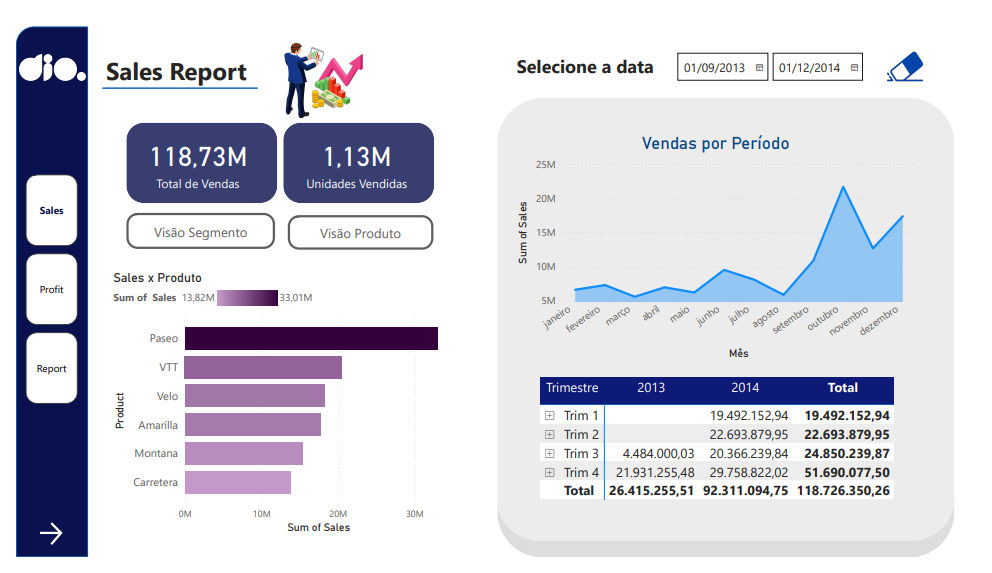

The page's visual inventory and layout, read from the dashboard file:
{"tool":"powerbi","page":{"name":"Sales","canvas":[1280,720],"ordinal":0},"visuals":[{"type":"group","id":"g1","title":"Layout","box":[0,13.6,519.6,706.1],"z":0},{"type":"shape","box":[0,13.6,96.4,706.2],"z":0,"group":"g1"},{"type":"slicer","fields":{"Values":["financials.Date"]},"box":[867.2,38.7,272.2,55],"z":0,"group":"g3"},{"type":"shape","box":[115.4,79,206.4,32.3],"z":0,"group":"g4"},{"type":"shape","box":[147.2,142.2,201.4,106.8],"z":0,"group":"g2"},{"type":"areaChart","title":"Vendas por Período","fields":{"Category":["financials.Date.Variation.Hierarquia de datas.Ano","financials.Date.Variation.Hierarquia de datas.Mês"],"Y":["Sum(financials. Sales)"]},"box":[661.6,156.1,539.7,306.2],"z":0,"group":"g6"},{"type":"image","title":"logo_dio","box":[0,35.9,98.2,63.2],"z":1000,"group":"g1"},{"type":"textbox","box":[115,44.5,215.4,53.4],"z":1000,"group":"g4"},{"type":"textbox","box":[661.6,44.7,199.6,45.6],"z":1000,"group":"g3"},{"type":"shape","box":[355.9,142.2,201.4,106.8],"z":1000,"group":"g2"},{"type":"clusteredBarChart","title":"Sales x Produto","fields":{"Y":["Sum(financials. Sales)"],"Category":["financials.Product"]},"box":[125.5,337.9,473.5,355.6],"z":1000,"group":"g5"},{"type":"actionButton","title":"Botão - Next","box":[25.9,669,48.8,39.6],"z":1000},{"type":"image","box":[330.4,14,188.9,141.5],"z":2000,"group":"g1"},{"type":"actionButton","box":[1153.4,43.3,59.9,51.3],"z":2000,"group":"g3"},{"type":"group","id":"g2","title":"Cartões","box":[147.2,141.2,410.3,107],"z":2000},{"type":"card","fields":{"Values":["Sum(financials. Sales)"]},"box":[161.1,141.2,162.6,106.9],"z":2000,"group":"g2"},{"type":"actionButton","title":"B-Segmento","box":[147.8,261.6,197.5,48.4],"z":2000,"group":"g5"},{"type":"group","id":"g3","title":"Filtro por data","box":[661.6,38.7,551.5,55],"z":3000},{"type":"image","title":"clean","box":[1153.4,39,59.9,55.6],"z":3000,"group":"g3"},{"type":"card","fields":{"Values":["Sum(financials.Units Sold)"]},"box":[375.8,145.4,156.5,98.6],"z":3000,"group":"g2"},{"type":"actionButton","title":"B-Produto","box":[362.2,264.3,194.6,46.3],"z":3000,"group":"g5"},{"type":"shape","box":[640.7,108.5,609.5,612.5],"z":4000},{"type":"group","id":"g4","title":"Title report","box":[115,44.5,215.5,66.8],"z":5000},{"type":"group","id":"g5","title":"Grupo 1","box":[120.4,261.6,478.7,446],"z":6000},{"type":"shape","box":[638.8,108.8,612.5,590],"z":7000},{"type":"group","id":"g6","title":"Perspectiva temporal das vendas","box":[661.6,156.1,539.7,306.2],"z":8000},{"type":"pivotTable","fields":{"Values":["Sum(financials. Sales)"],"Columns":["financials.Date.Variation.Hierarquia de datas.Ano"],"Rows":["financials.Date.Variation.Hierarquia de datas.Trimestre","financials.Date.Variation.Hierarquia de datas.Mês"]},"box":[692.5,476.2,490.6,192.8],"z":9000},{"type":"pageNavigator","box":[13.4,211.1,69.9,306.2],"z":10000}]}

Visuals, with their boxes in screenshot pixels (x1, y1, x2, y2), scaled from the page's 1280x720 canvas onto the 992x573 screenshot:
"Layout" group: box=[0, 11, 403, 572]
shape: box=[0, 11, 75, 572]
slicer - financials.Date: box=[672, 31, 883, 75]
shape: box=[89, 63, 249, 89]
shape: box=[114, 113, 270, 198]
"Vendas por Período" areaChart: box=[513, 124, 931, 368]
"logo_dio" image: box=[0, 29, 76, 79]
textbox: box=[89, 35, 256, 78]
textbox: box=[513, 36, 667, 72]
shape: box=[276, 113, 432, 198]
"Sales x Produto" clusteredBarChart: box=[97, 269, 464, 552]
"Botão - Next" actionButton: box=[20, 532, 58, 564]
image: box=[256, 11, 402, 124]
actionButton: box=[894, 34, 940, 75]
"Cartões" group: box=[114, 112, 432, 198]
card - Sum(financials. Sales): box=[125, 112, 251, 197]
"B-Segmento" actionButton: box=[115, 208, 268, 247]
"Filtro por data" group: box=[513, 31, 940, 75]
"clean" image: box=[894, 31, 940, 75]
card - Sum(financials.Units Sold): box=[291, 116, 413, 194]
"B-Produto" actionButton: box=[281, 210, 432, 247]
shape: box=[497, 86, 969, 572]
"Title report" group: box=[89, 35, 256, 89]
"Grupo 1" group: box=[93, 208, 464, 563]
shape: box=[495, 87, 970, 556]
"Perspectiva temporal das vendas" group: box=[513, 124, 931, 368]
pivotTable - Sum(financials. Sales) x financials.Date.Variation.Hierarquia de datas.Ano: box=[537, 379, 917, 532]
pageNavigator: box=[10, 168, 65, 412]
